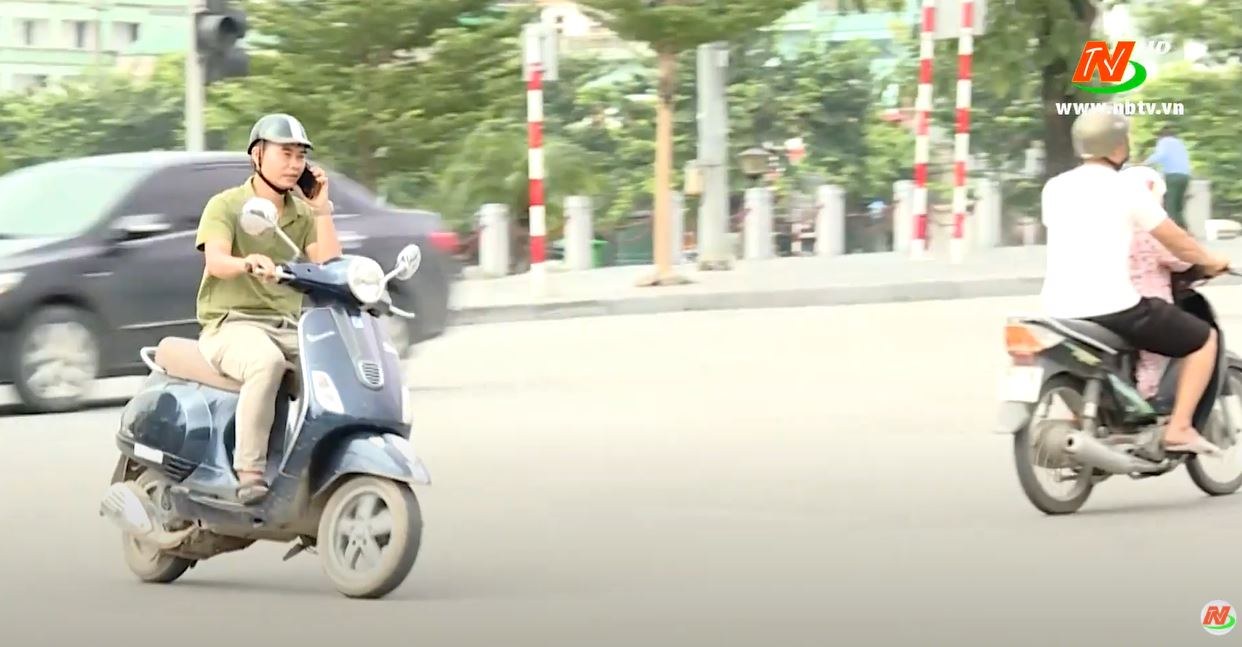dieu khien xe may: (204, 110, 404, 465)
su dung dien thoai: (249, 115, 329, 213)
